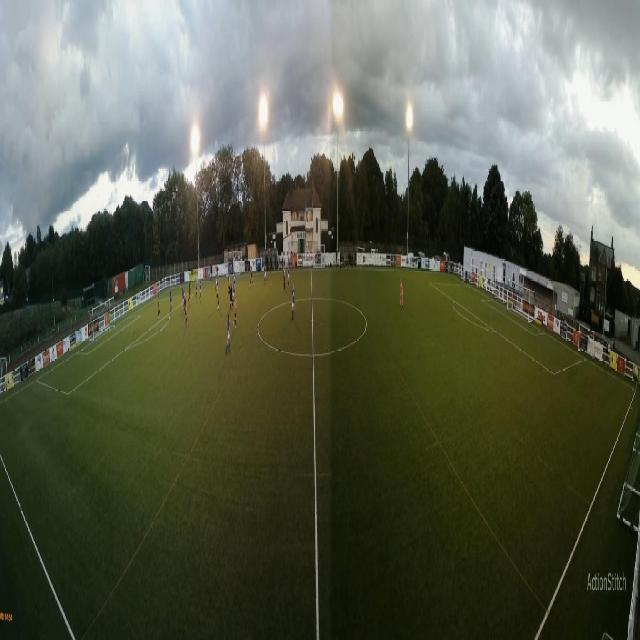player: (399, 273, 404, 314), (227, 311, 231, 350), (234, 295, 237, 326), (216, 281, 219, 309), (263, 265, 267, 285), (230, 283, 233, 309), (293, 284, 295, 322), (199, 278, 202, 302), (283, 265, 286, 289), (250, 266, 253, 287), (185, 297, 187, 325), (288, 261, 290, 285), (109, 309, 111, 331), (170, 291, 172, 313), (189, 281, 191, 303), (233, 281, 235, 302), (228, 274, 230, 294), (183, 289, 185, 308), (216, 270, 218, 289), (234, 272, 236, 289), (158, 294, 159, 318), (182, 288, 183, 312), (197, 278, 198, 296)
